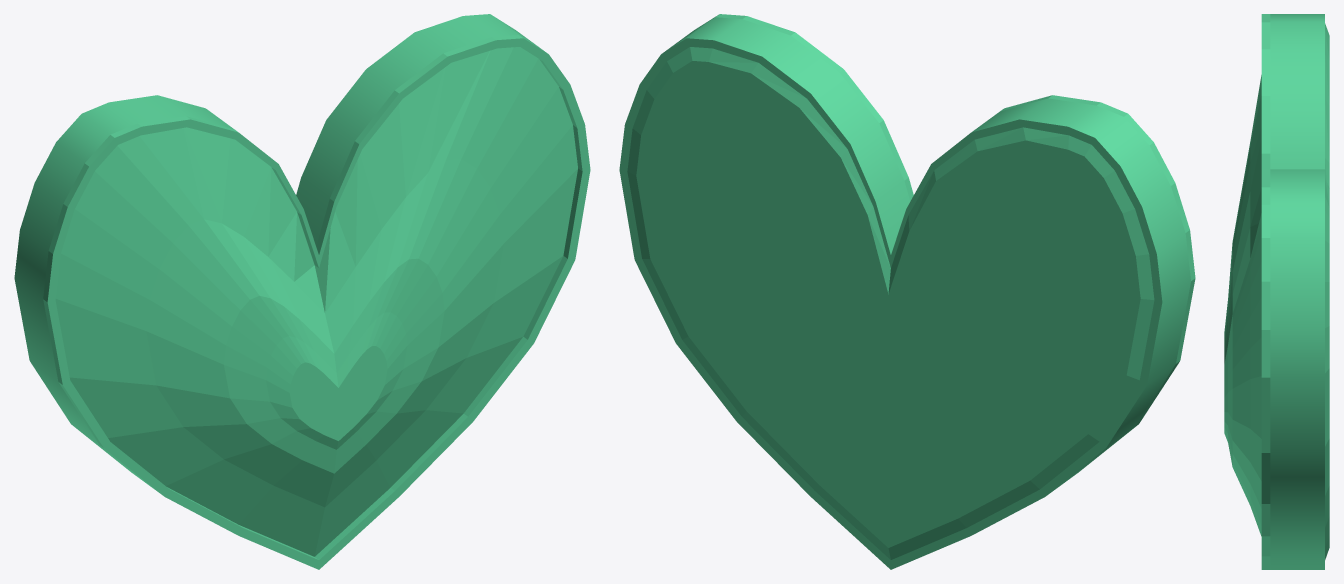
The model's file is heart.glb.
3 views of the same model, side by side, from view 1: azimuth 30°, elevation 25°; view 2: azimuth 150°, elevation 25°; view 3: azimuth 270°, elevation 25° (orthographic). The views are drawn at different scales.
Parts seen in each view (by area): view 1: Circle001; view 2: Circle001; view 3: Circle001.
Part boxes in pixels (x1,y1,x2,y2): Circle001: (14,14,590,569); Circle001: (619,14,1195,569); Circle001: (1224,14,1329,569).
Size of the model in its own units: 2.77 by 2.37 by 0.4877.
